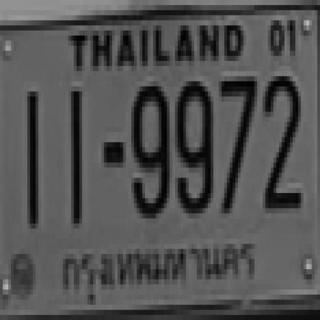N01: (14, 86, 55, 244), (60, 86, 96, 224)
N02: (260, 71, 304, 208)
N07: (216, 71, 257, 224)
N09: (128, 81, 170, 213), (172, 81, 213, 213)
